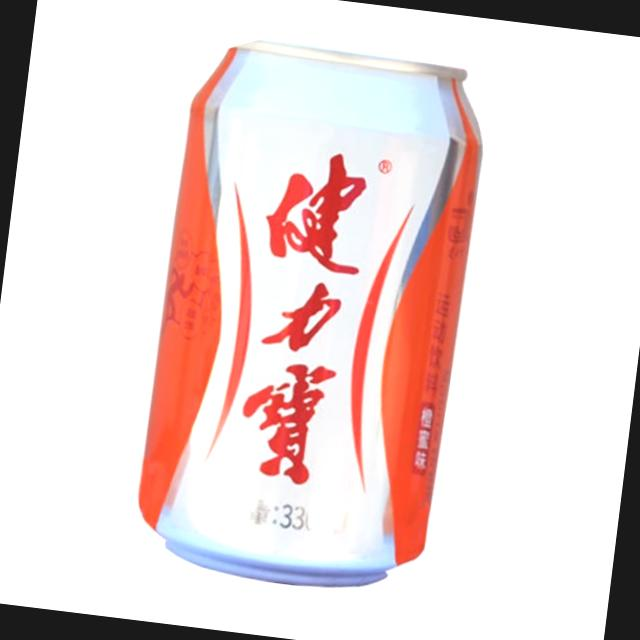can: (124, 26, 496, 604)
